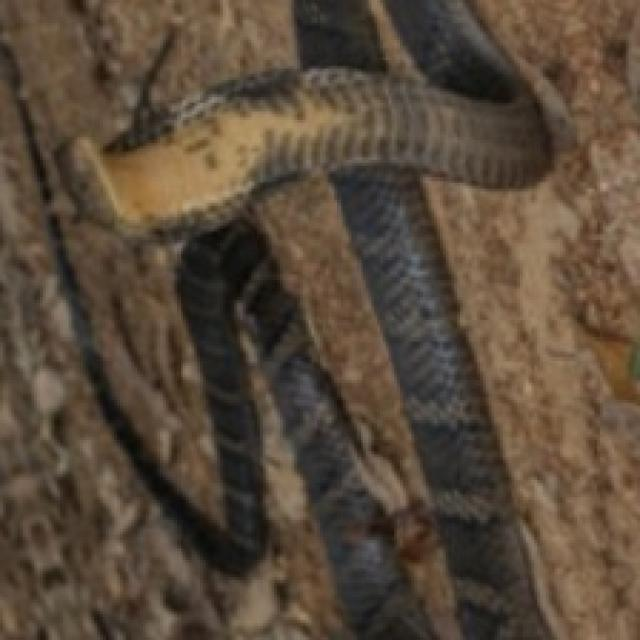king cobra: (71, 0, 546, 531), (80, 283, 126, 360), (154, 283, 180, 331), (106, 360, 131, 406), (137, 283, 154, 340), (166, 363, 191, 400), (177, 331, 186, 360)
